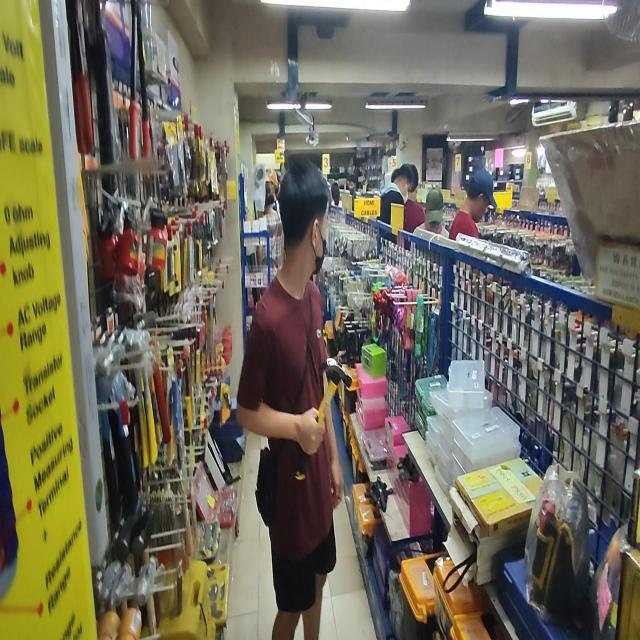hammer: (294, 358, 352, 479)
